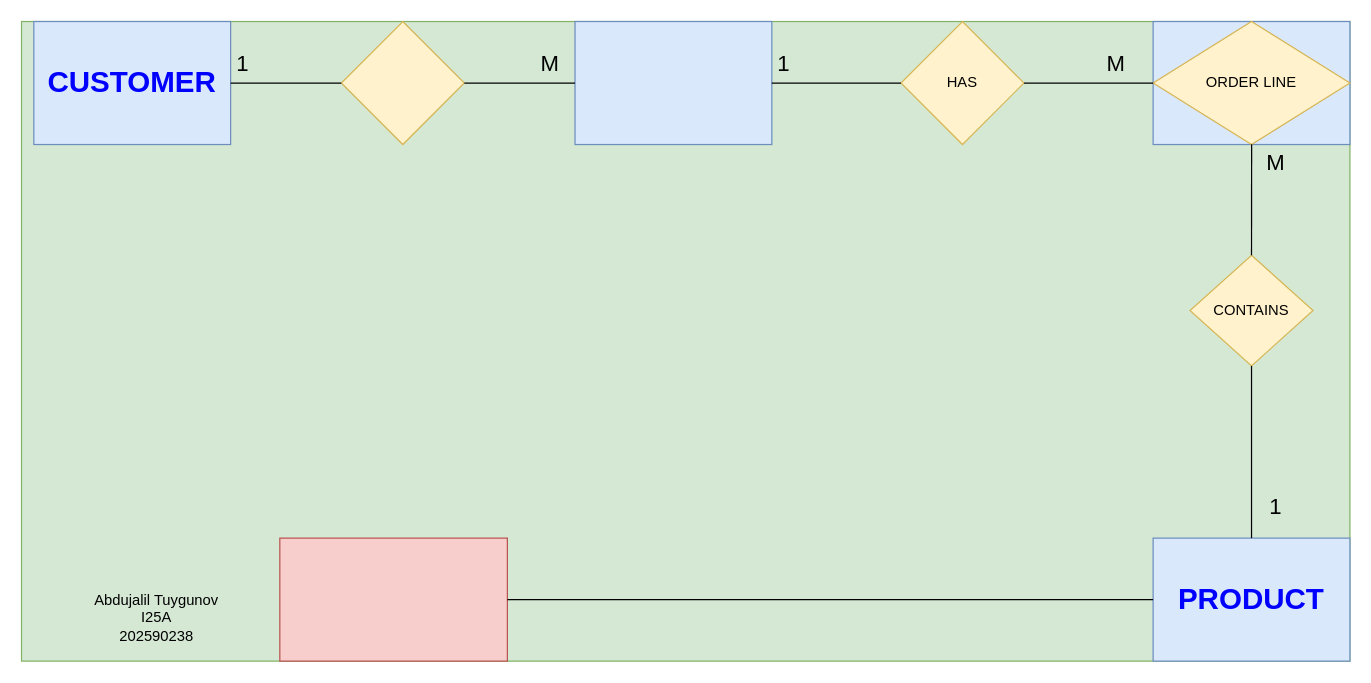
Image size: 1371x683. Some labels were removed from this diagram. Each missing label, with the centre of its shape:
"DISTRIBUTOR" goes at point (393, 599).
"ORDER" goes at point (673, 82).
"PLACES" goes at point (402, 82).
